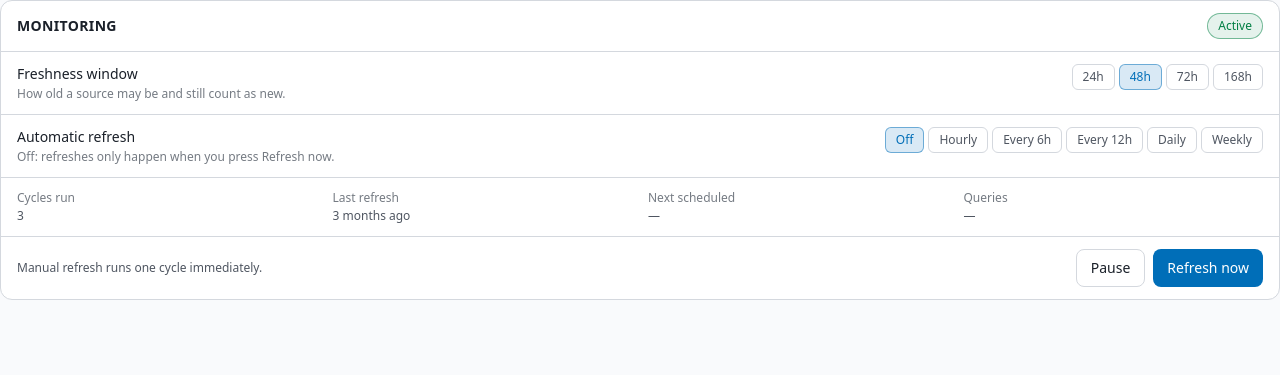
Scenario: MonitorPanel › surfaces a rejected change
Click the button "Weekly" at (1232, 140), box [1201,127,1263,153]
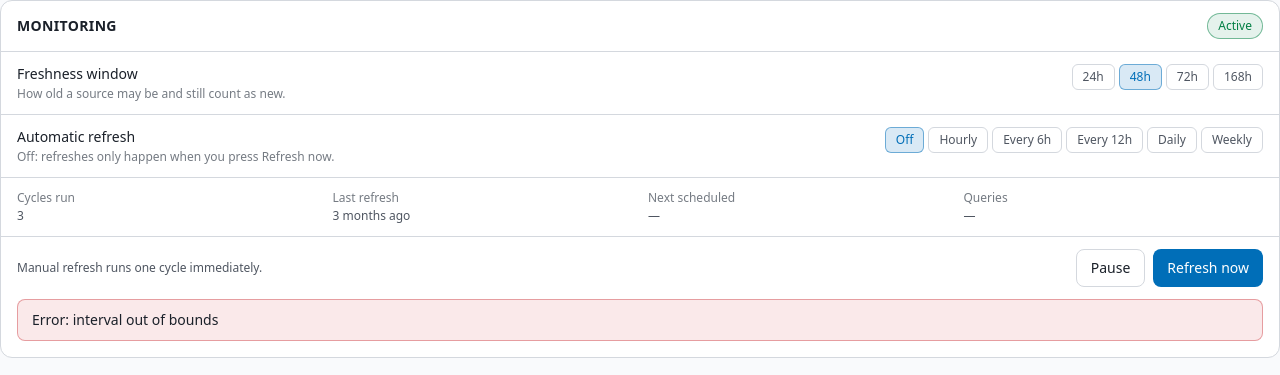
Result: the message shows "interval out of bounds" at [32,310,218,329]
